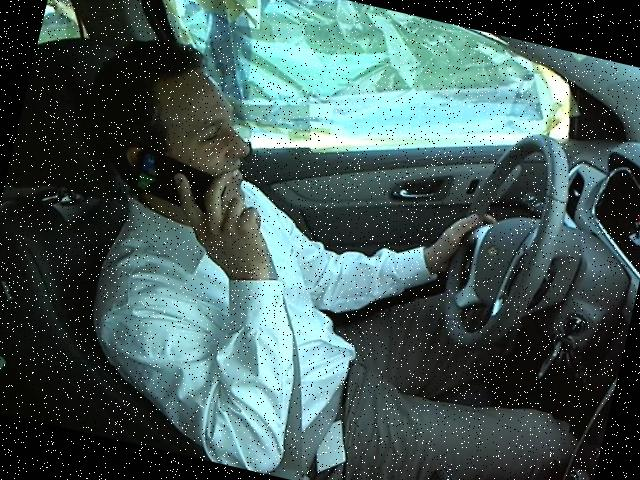c2 - Talking on the phone: (6, 18, 595, 479)
